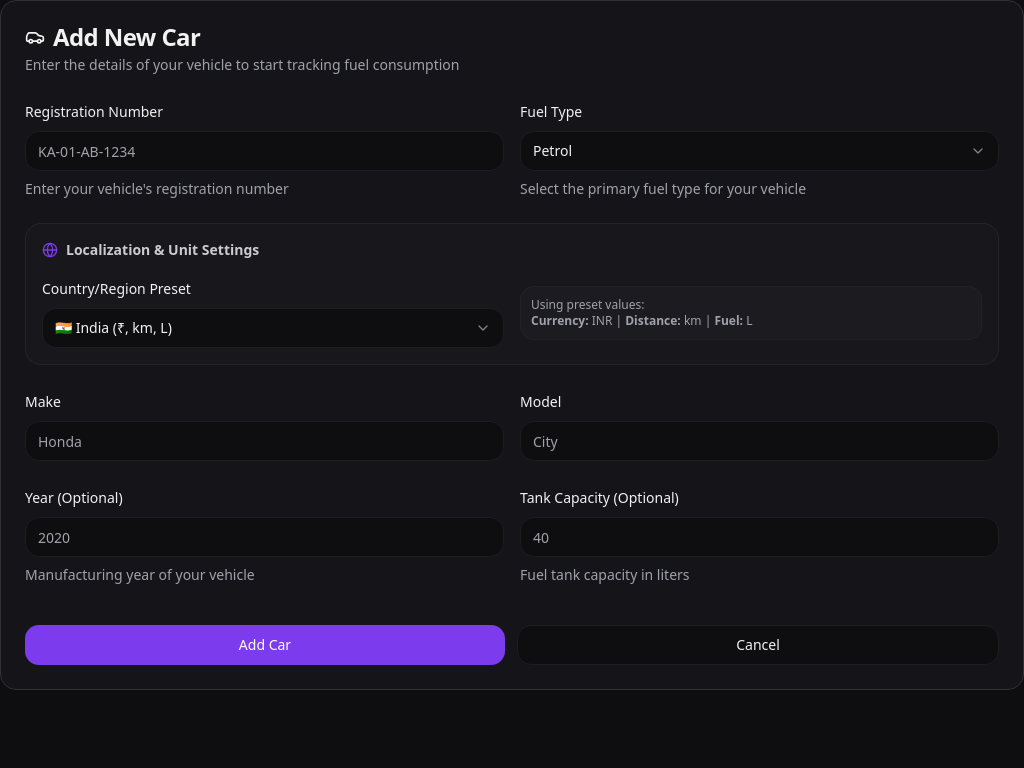
it: CarForm › should validate registration number format
The width and height of the screenshot is (1024, 768).
Type "inv@lid" into the field labelled "Registration Number" at (264, 151), box [25,131,504,171]
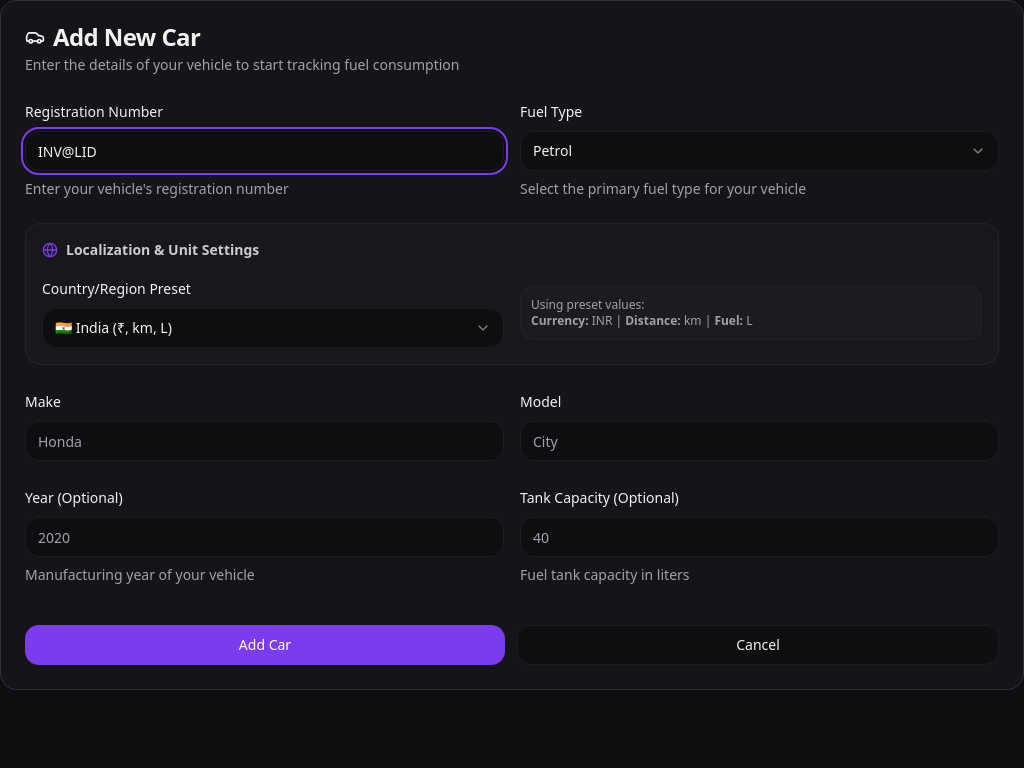
Click the button "Add Car" at (265, 645), box [25,625,505,665]
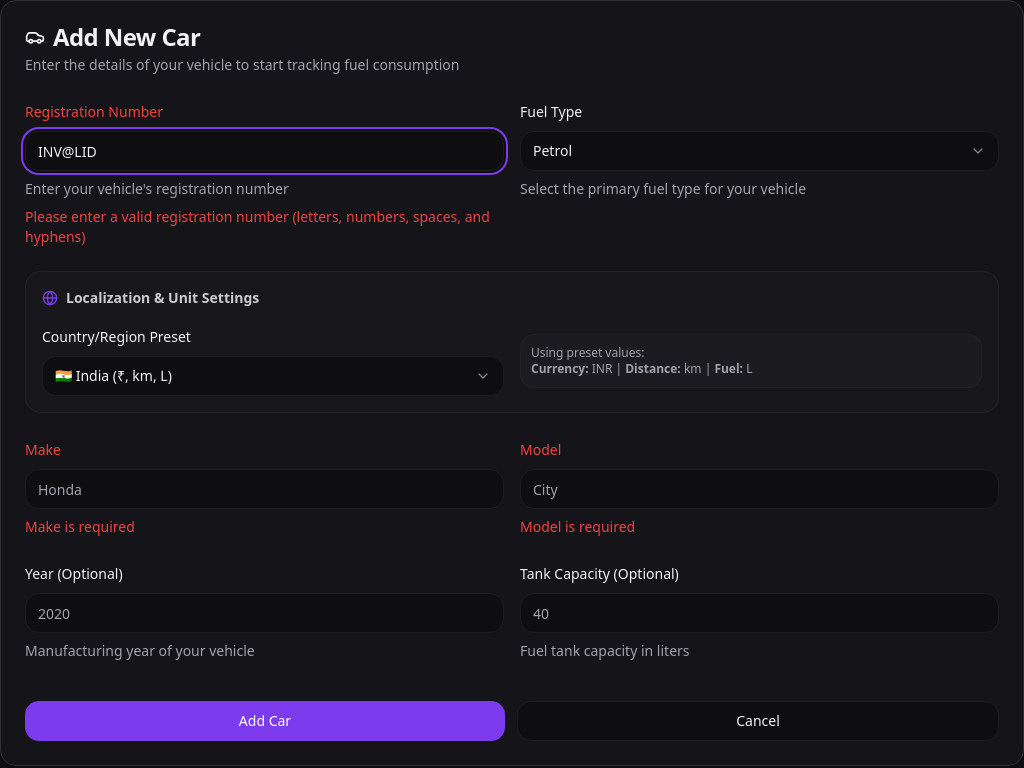
Now the text "Please enter a valid registration number" is shown, box [25,207,490,246]
